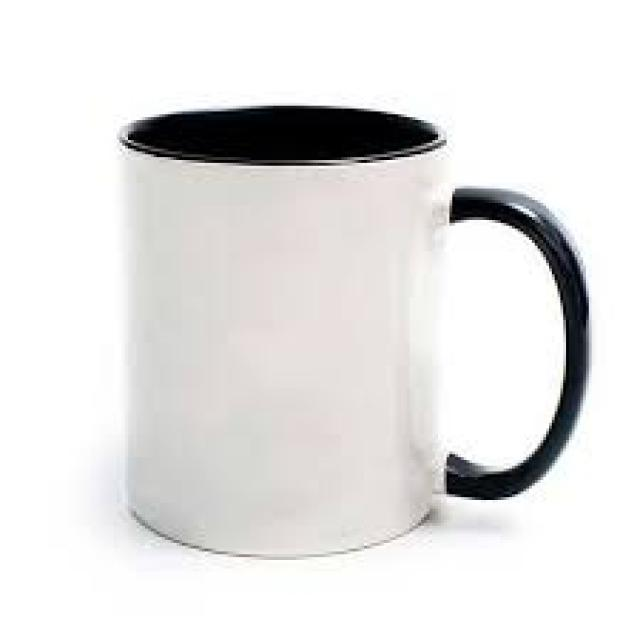taza: (114, 104, 590, 560)
